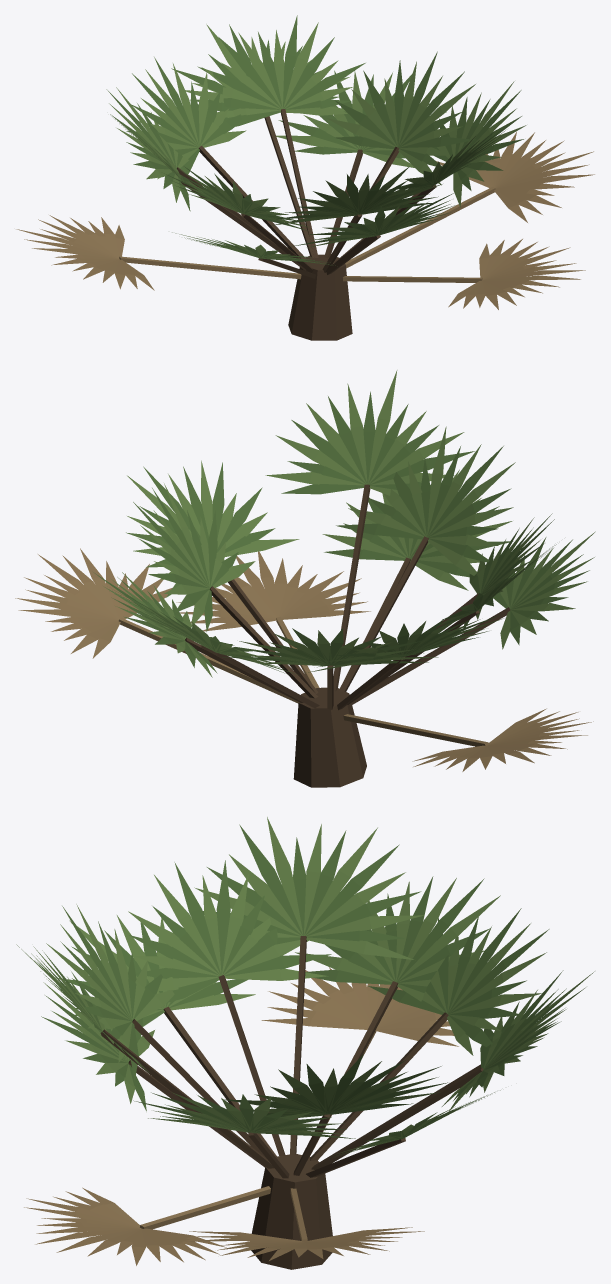
File: palm.glb
3 renders of one model, top to bottom at view 1: azimuth 30°, elevation 25°; view 2: azimuth 150°, elevation 25°; view 3: azimuth 270°, elevation 25°, orthographic. The views are drawn at different scales.
Visible parts, largest first — view 1: palm; view 2: palm; view 3: palm.
Part boxes in pixels (left/top/right/bottom): palm: left=16, top=15, right=594, bottom=340; palm: left=15, top=370, right=595, bottom=787; palm: left=16, top=817, right=594, bottom=1269.
Bounding box in the file's own units: 2.32 × 1.14 × 1.76.
